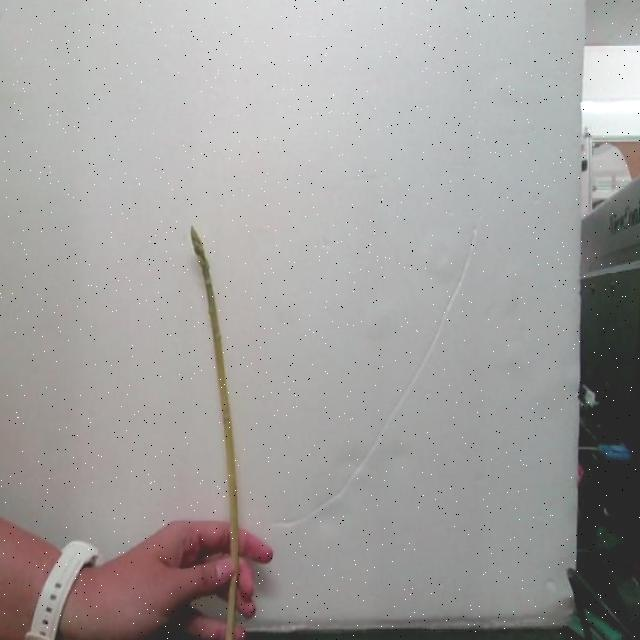aspargus: (190, 228, 242, 563)
